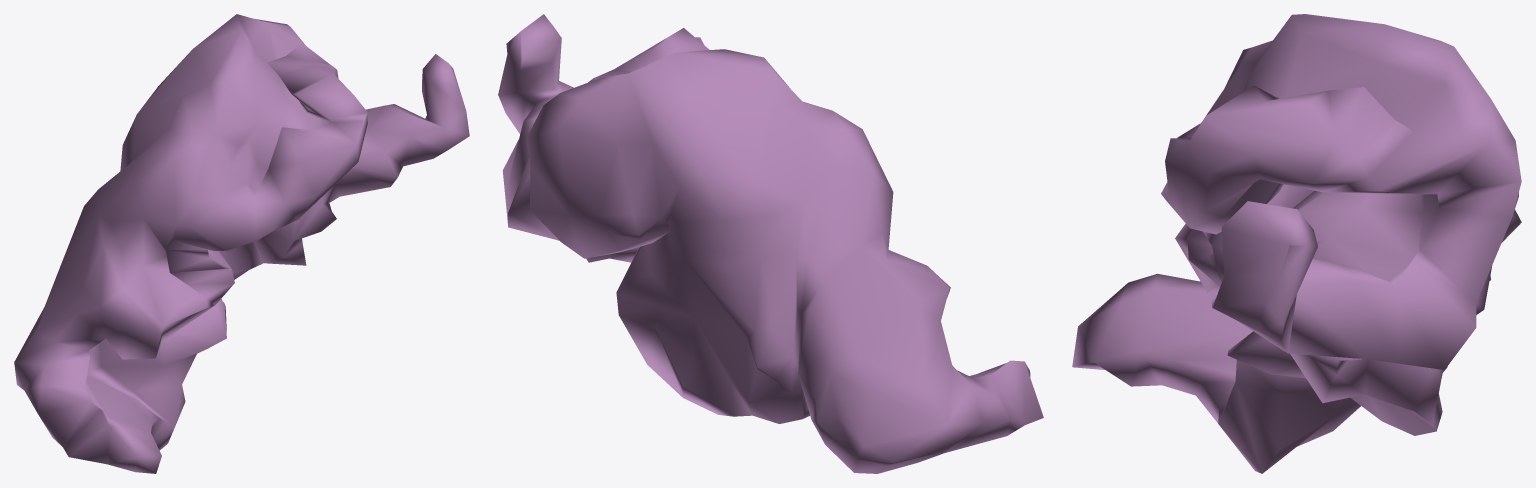
The picture shows the model from 3 angles, left to right: view 1: azimuth 30°, elevation 25°; view 2: azimuth 150°, elevation 25°; view 3: azimuth 270°, elevation 25°; orthographic projection. The views are drawn at different scales.
Visible parts, largest first — view 1: 右侧枕下回与枕下沟; view 2: 右侧枕下回与枕下沟; view 3: 右侧枕下回与枕下沟.
Boxes of the visible parts, x1,y1,x2,y2 form: 右侧枕下回与枕下沟: (14, 14, 469, 473); 右侧枕下回与枕下沟: (498, 14, 1043, 473); 右侧枕下回与枕下沟: (1072, 14, 1521, 473).
Bounding box in the file's own units: 0.0587 × 0.0465 × 0.0349.
